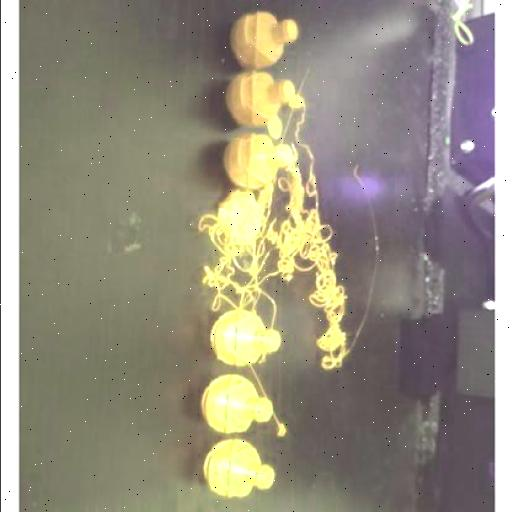spaghetti: (282, 96, 350, 369), (196, 180, 284, 314), (270, 412, 286, 440), (254, 351, 270, 368), (268, 312, 278, 333)
